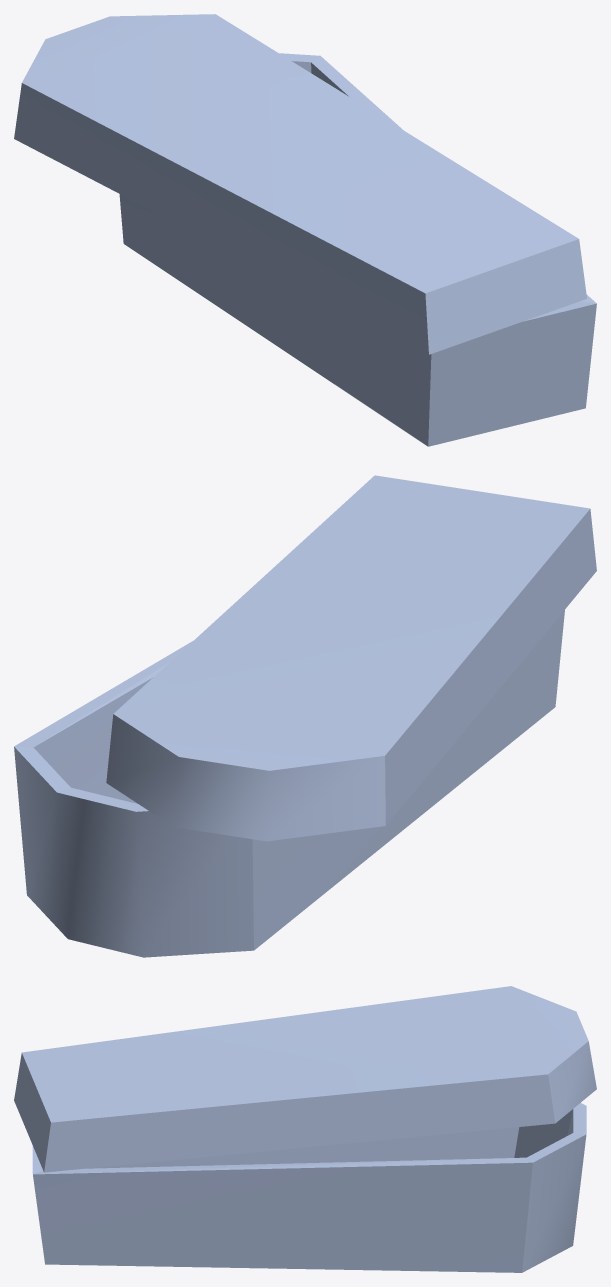
3 renders of one model, top to bottom at view 1: azimuth 30°, elevation 25°; view 2: azimuth 150°, elevation 25°; view 3: azimuth 270°, elevation 25°, orthographic. The views are drawn at different scales.
Visible parts, largest first — view 1: Object59; view 2: Object59; view 3: Object59.
Boxes of the visible parts, x1=… form: Object59: x1=14, y1=14, x2=596, y2=446; Object59: x1=14, y1=475, x2=596, y2=957; Object59: x1=14, y1=986, x2=596, y2=1272.
Size of the model in its own units: 132 by 76.45 by 250.
